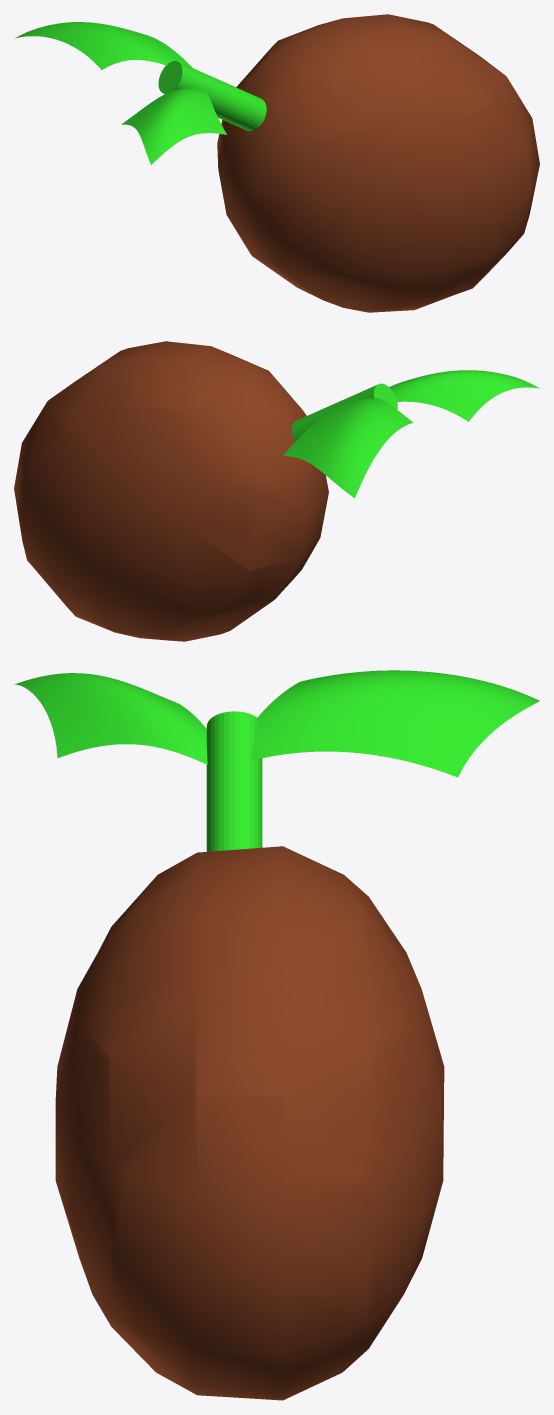
Rendered from graine.fbx.
3 views of the same model, one above another, from view 1: azimuth 30°, elevation 25°; view 2: azimuth 150°, elevation 25°; view 3: azimuth 270°, elevation 25° (orthographic). The views are drawn at different scales.
Parts seen in each view (by area): view 1: Mball, SurfPatch, Cylinder; view 2: Mball, SurfPatch, Cylinder; view 3: Mball, SurfPatch, Cylinder.
Part boxes in pixels (<box>): Mball: <box>217,14,539,312</box>; SurfPatch: <box>15,22,226,164</box>; Cylinder: <box>158,61,266,131</box>; Mball: <box>14,341,328,641</box>; SurfPatch: <box>283,370,539,498</box>; Cylinder: <box>291,383,397,441</box>; Mball: <box>55,846,444,1400</box>; SurfPatch: <box>14,670,539,777</box>; Cylinder: <box>206,711,262,851</box>.
Size of the model in its own units: 390 by 254 by 245.
